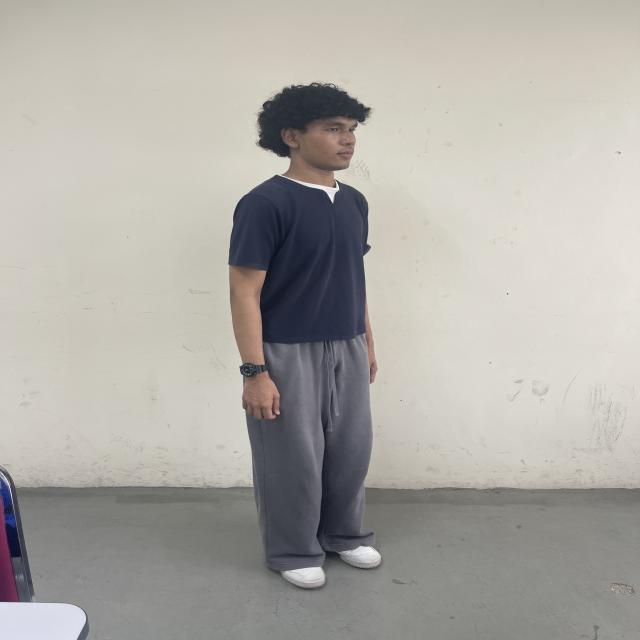person_without_labcoat: (229, 83, 381, 588)
